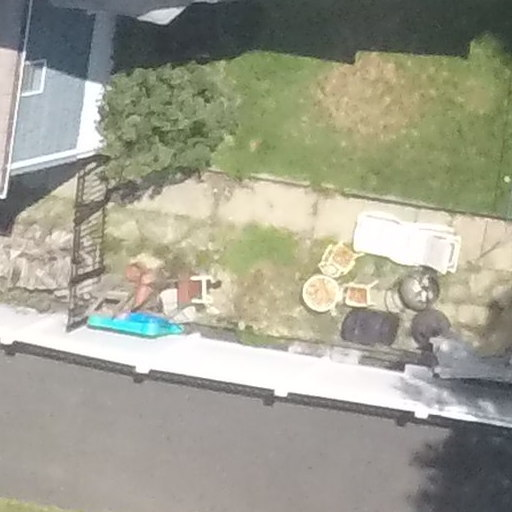chair: (356, 199, 463, 276), (312, 230, 362, 277), (342, 271, 385, 313)
table: (395, 264, 444, 315), (299, 270, 341, 320)
toy: (84, 308, 194, 342)
